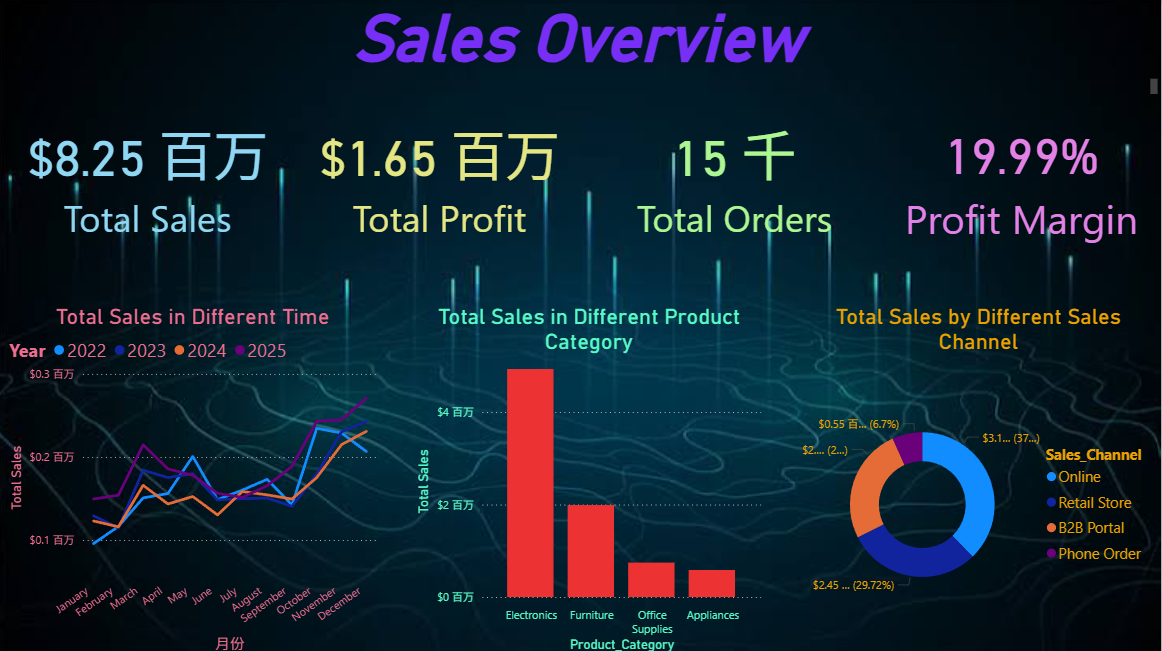

Layout of this report page (visuals, bound fields, positions):
{"tool":"powerbi","page":{"name":"Retail Sales Overview","canvas":[1280,720],"ordinal":0},"visuals":[{"type":"card","fields":{"Values":["FactSales.Total Sales"]},"box":[9.6,108.4,314.2,171.5],"z":0},{"type":"card","fields":{"Values":["FactSales.Total Profit"]},"box":[323.8,108.4,326.6,171.5],"z":1000},{"type":"card","fields":{"Values":["FactSales.Total Orders"]},"box":[650.4,108.4,321.1,171.5],"z":2000},{"type":"card","fields":{"Values":["FactSales.Profit Margin"]},"box":[971.5,108.4,308.7,171.5],"z":3000},{"type":"lineChart","title":"Total Sales in Different Time","fields":{"Category":["DimDate.Order_Date.变体.日期层次结构.年","DimDate.Order_Date.变体.日期层次结构.季度","DimDate.Order_Date.变体.日期层次结构.月份"],"Y":["FactSales.Total Sales"],"Series":["DimDate.Year"]},"box":[9.6,333.4,413,387],"z":4000},{"type":"clusteredColumnChart","title":"Total Sales in Different Product Category","fields":{"Y":["FactSales.Total Sales"],"Category":["DimProduct.Product_Category"]},"box":[456.9,333.4,388.3,387],"z":5000},{"type":"donutChart","title":"Total Sales by Different Sales Channel","fields":{"Category":["DimChannel.Sales_Channel"],"Y":["FactSales.Total Sales"]},"box":[876.8,333.4,403.4,387],"z":6000},{"type":"textbox","title":"Sales Overview","box":[0,0,1280.3,108.4],"z":7000}]}

Visuals, with their boxes in screenshot pixels (x1, y1, x2, y2), scaled from the page's 1280x720 canvas onto the 1162x651 screenshot:
card - FactSales.Total Sales: <box>9,98,294,253</box>
card - FactSales.Total Profit: <box>294,98,590,253</box>
card - FactSales.Total Orders: <box>590,98,882,253</box>
card - FactSales.Profit Margin: <box>882,98,1161,253</box>
"Total Sales in Different Time" lineChart: <box>9,301,384,650</box>
"Total Sales in Different Product Category" clusteredColumnChart: <box>415,301,767,650</box>
"Total Sales by Different Sales Channel" donutChart: <box>796,301,1161,650</box>
"Sales Overview" textbox: <box>0,0,1161,98</box>
